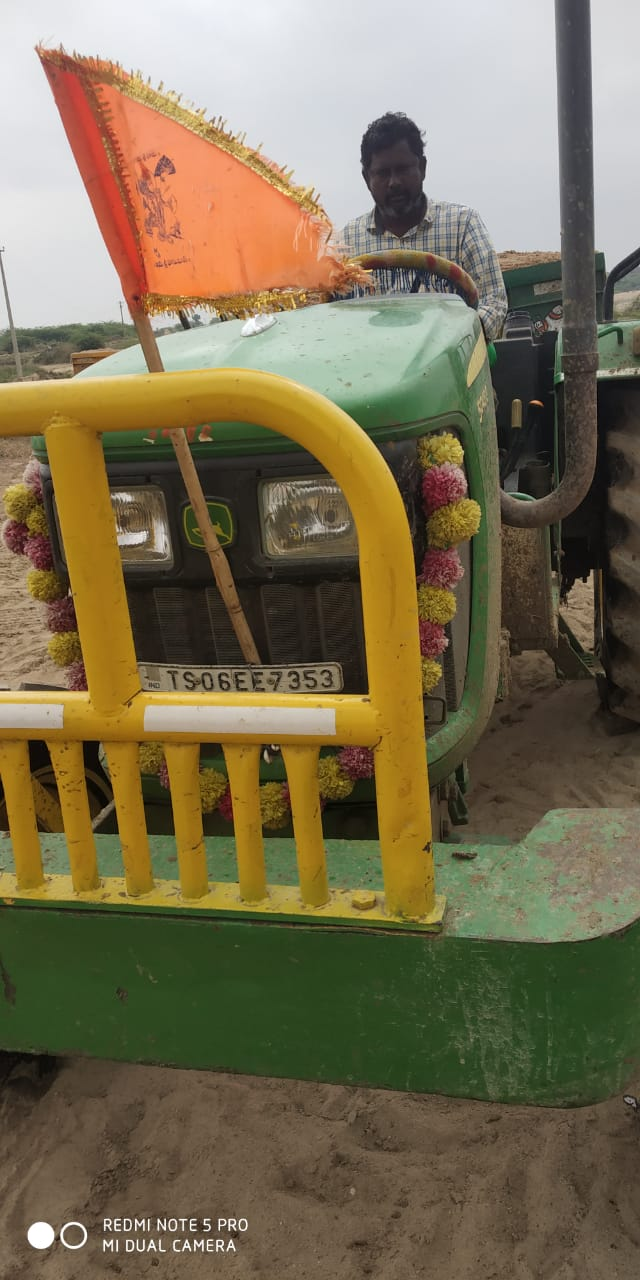license_plate: (136, 647, 354, 708)
